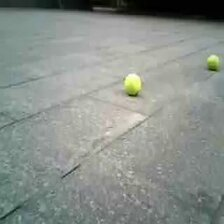tennis: (125, 73, 141, 94), (206, 54, 220, 70)
